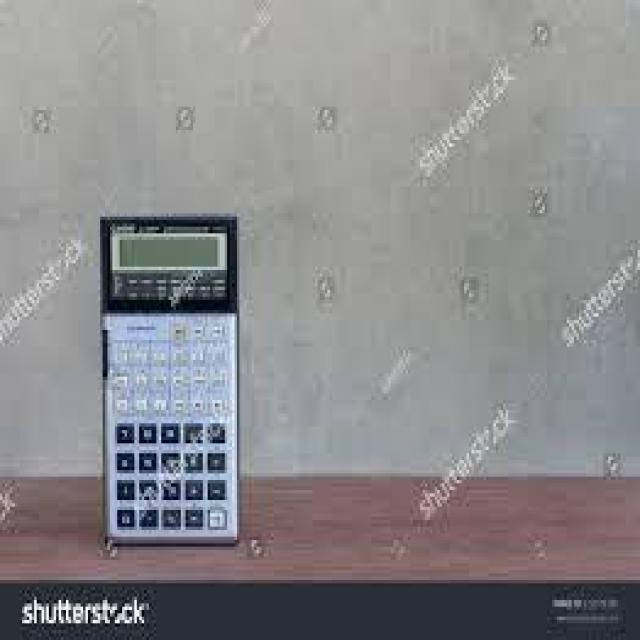Calculator: (88, 193, 259, 577)
